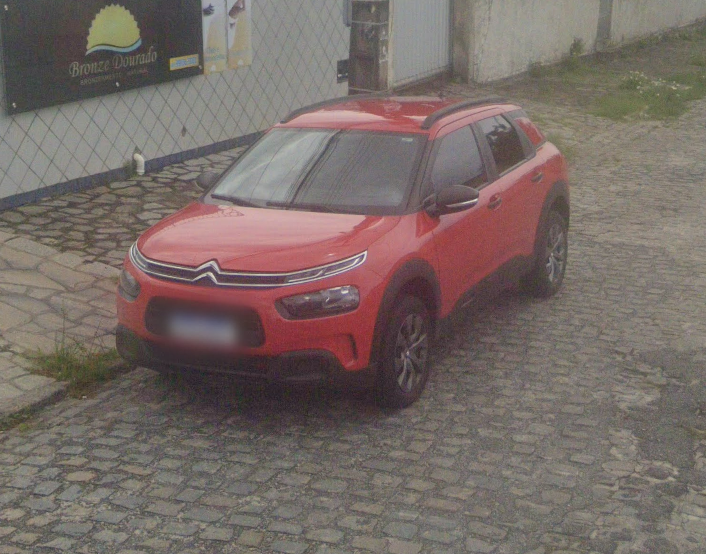car: (113, 91, 570, 406)
